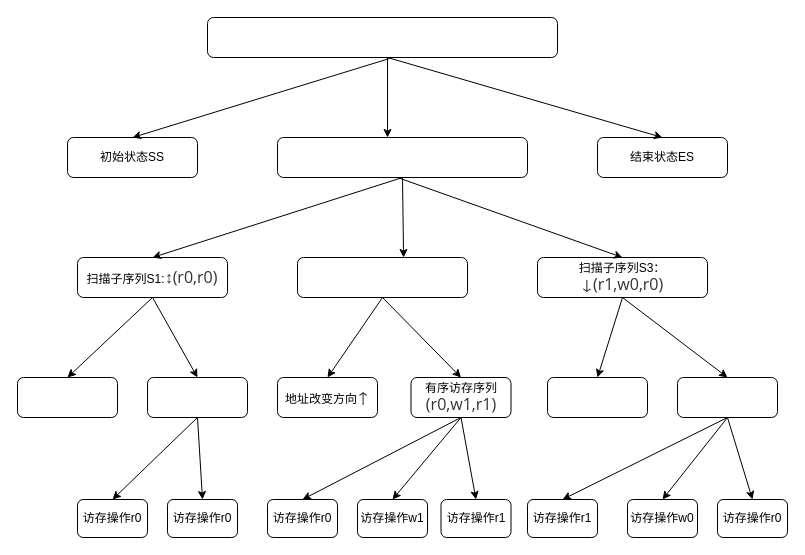
This 805x555 diagram has some shape labels left out. The shapes that lost their labels are listed below. From the top down, each one's centre as x and y in pixels, then its label:
At point (382, 37): "检测序列DSD:<SS/P/ES> <0/↕(r0,r0)↑(r0,w1,r1)↓(r1,w0，r0)/0>".
At point (402, 157): "扫描序列P: ↕(r0,r0)↑(r0,w1,r1)↓(r1,w0，r0)".
At point (382, 277): "扫描子序列S2： ↑(r0,w1,r1)".
At point (67, 397): "地址改变方向 ↕".
At point (197, 397): "有序访存序列 (r0,r0)".
At point (597, 397): "地址改变方向 ↓".
At point (727, 397): "有序访存序列 (r1,w0，r0)".
